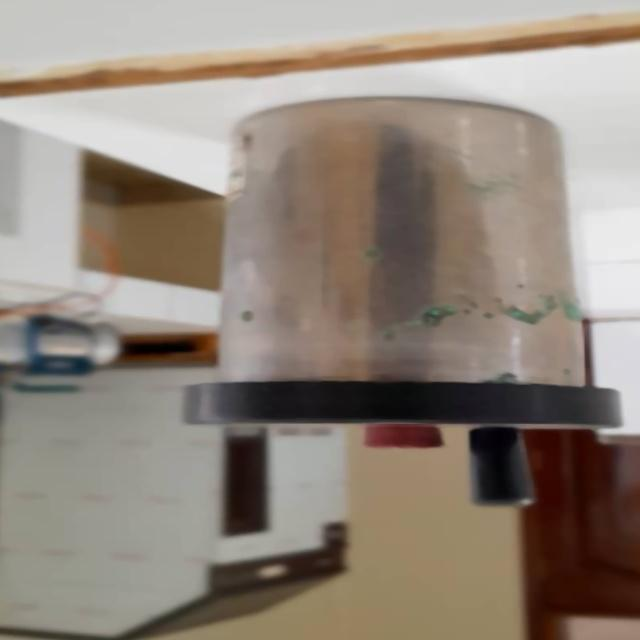Calorimeter: (177, 93, 617, 517)
